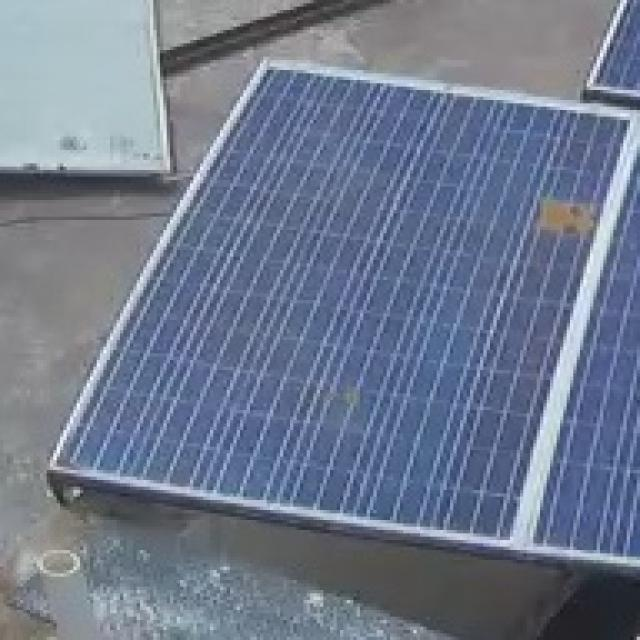Anomaly Solar Panel: (54, 60, 637, 544)
Surface Contaminant: (520, 192, 602, 245), (340, 383, 367, 413)
